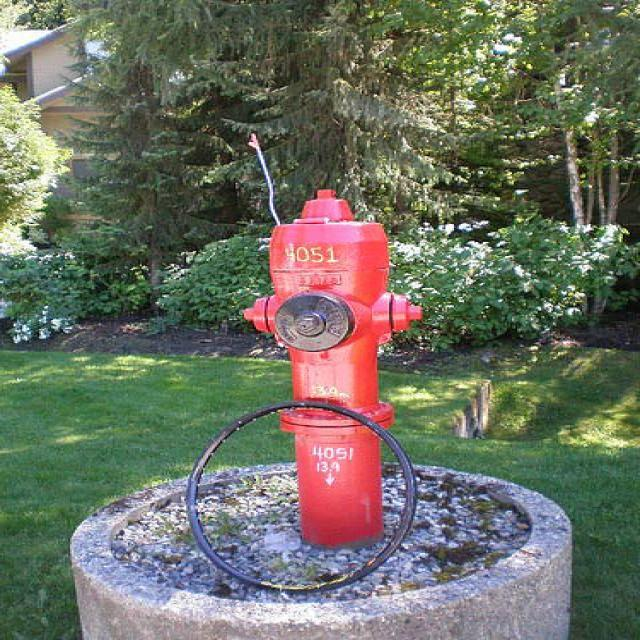fire_hydrant: (244, 187, 420, 553)
